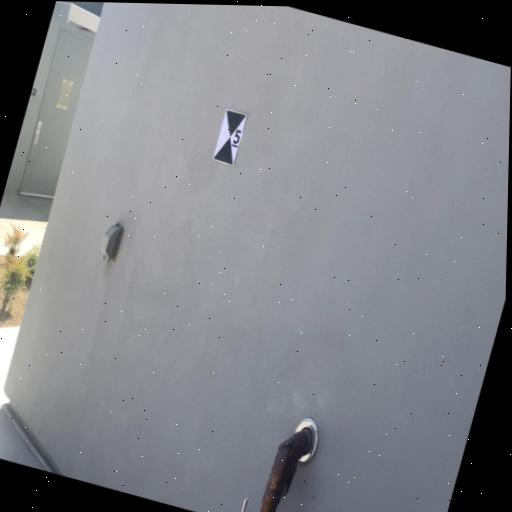target5: (213, 109, 247, 165)
